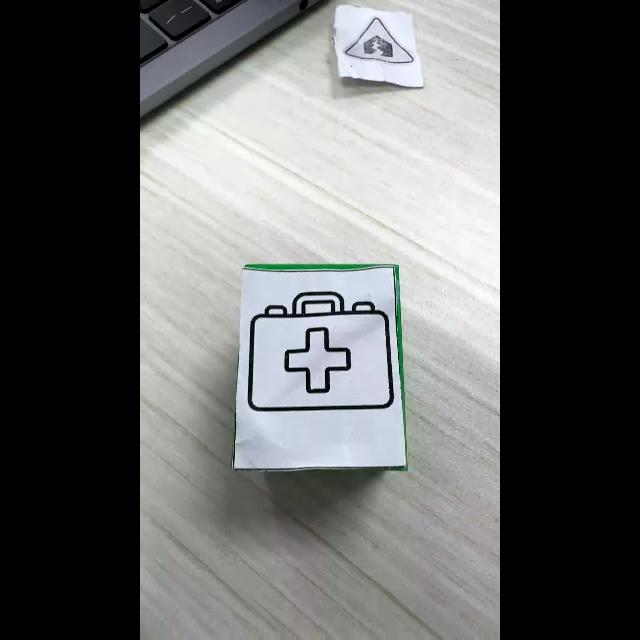Medkit: (248, 290, 394, 412)
